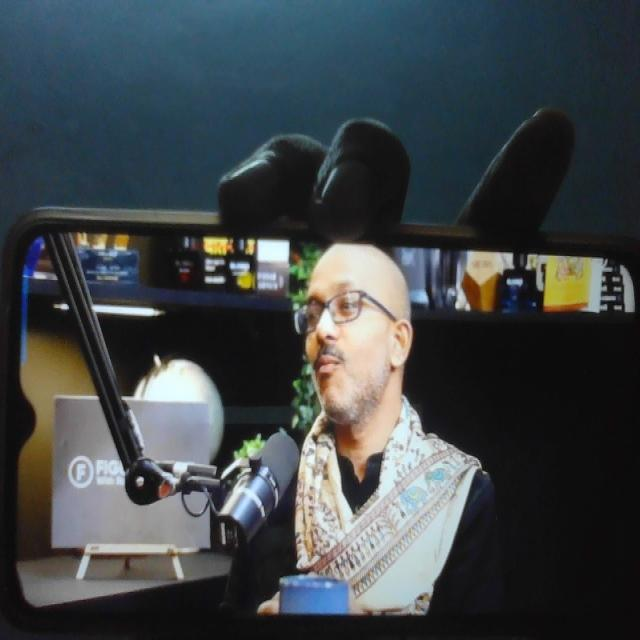fake: (282, 184, 420, 444)
